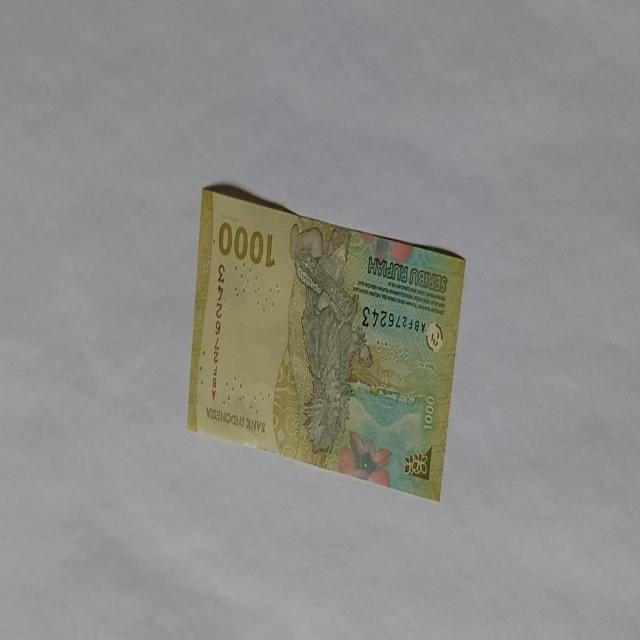seribu rupiah kertas: (186, 184, 466, 502)
